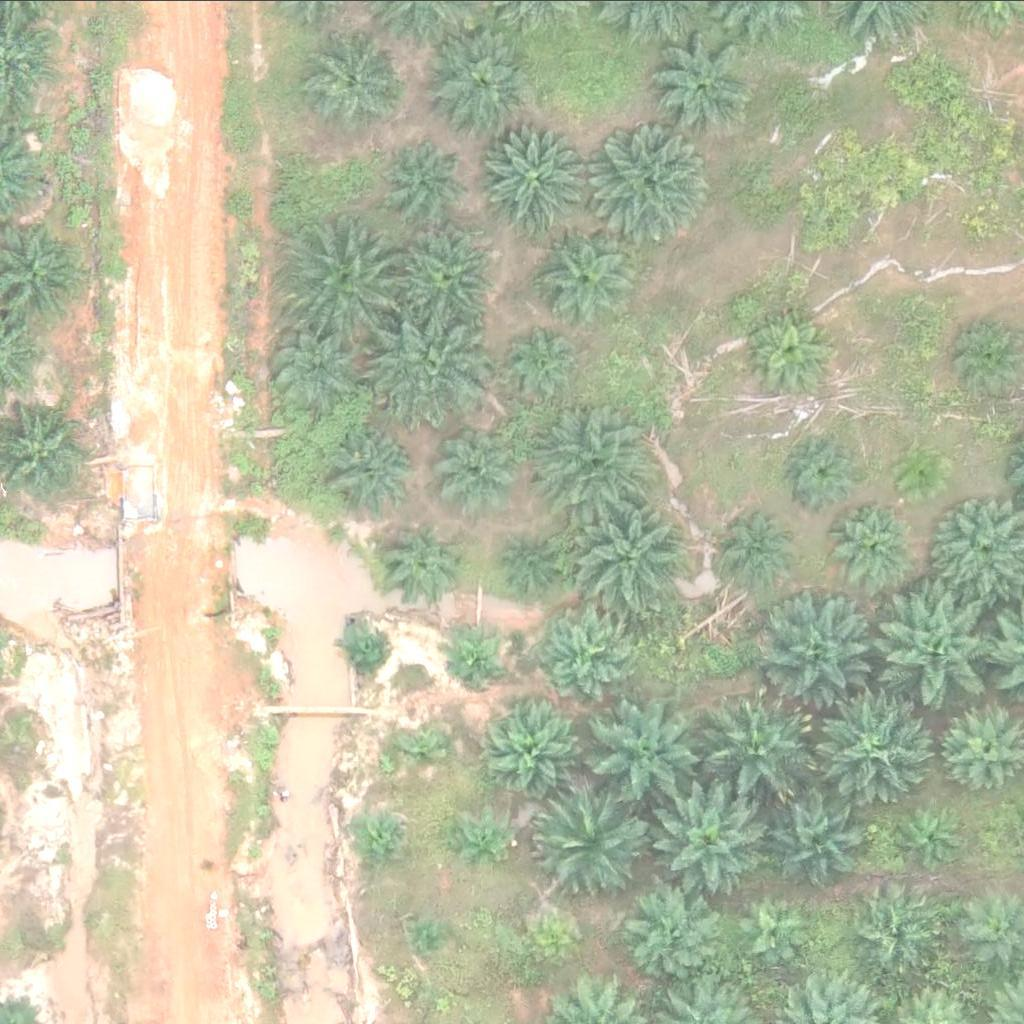Kelapa_Sawit: (596, 128, 710, 241), (545, 402, 659, 515), (568, 497, 681, 610), (884, 594, 997, 707), (592, 698, 705, 811), (825, 685, 938, 798), (532, 789, 645, 902), (664, 784, 777, 897), (758, 597, 872, 709), (482, 118, 595, 230), (295, 221, 408, 333), (374, 311, 487, 423), (709, 688, 822, 800), (648, 35, 749, 135), (433, 34, 534, 134), (393, 227, 494, 327), (260, 321, 361, 421), (771, 791, 872, 891), (310, 30, 410, 130), (535, 226, 635, 326), (484, 695, 584, 795), (850, 882, 950, 982), (625, 880, 725, 980), (331, 428, 420, 515), (384, 134, 472, 221), (501, 321, 589, 408), (430, 428, 518, 515), (534, 612, 622, 699), (378, 518, 466, 605), (751, 308, 839, 395), (837, 503, 913, 578), (789, 436, 865, 511), (715, 512, 790, 587), (732, 893, 807, 968), (898, 805, 961, 868), (447, 633, 498, 683), (897, 450, 947, 500), (337, 626, 387, 676), (506, 535, 556, 585), (400, 723, 450, 773), (354, 815, 404, 865), (457, 820, 507, 870), (415, 918, 453, 956), (534, 929, 571, 966)
